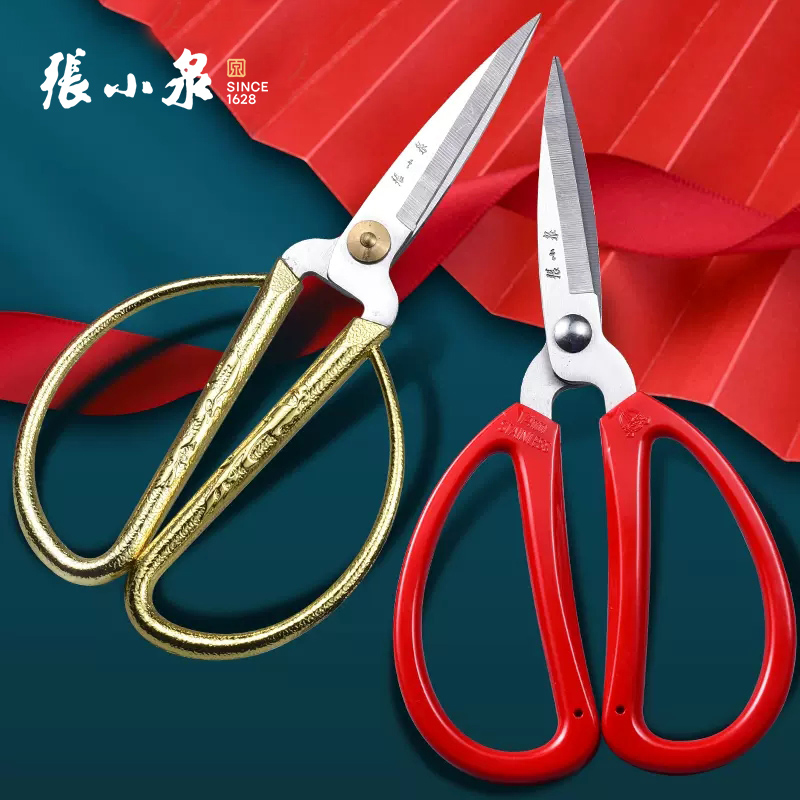scissors: (7, 9, 552, 662), (386, 50, 800, 789)
